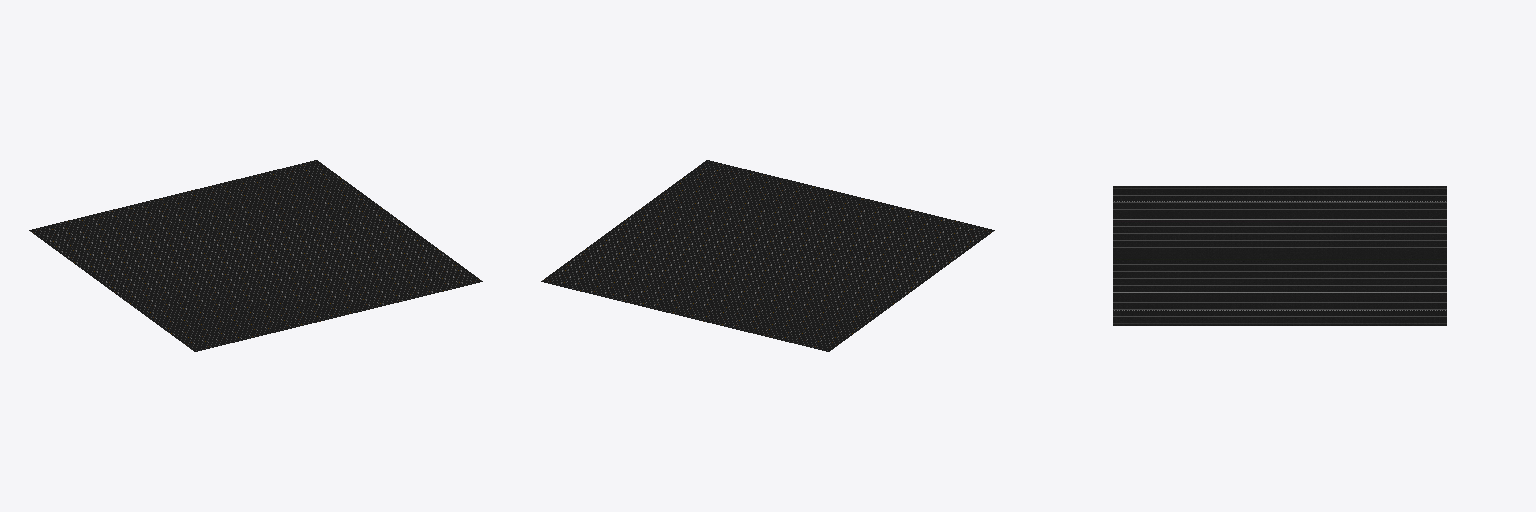
3 renders of one model, left to right at view 1: azimuth 30°, elevation 25°; view 2: azimuth 150°, elevation 25°; view 3: azimuth 270°, elevation 25°, orthographic.
Visible parts, largest first — view 1: Plane001; view 2: Plane001; view 3: Plane001.
Part boxes in pixels (x1,y1,x2,y2): Plane001: (29,160,482,351); Plane001: (541,160,994,351); Plane001: (1113,186,1446,325).
Size of the model in its own units: 200 by 0 by 200.
1 materials, 1 textured.